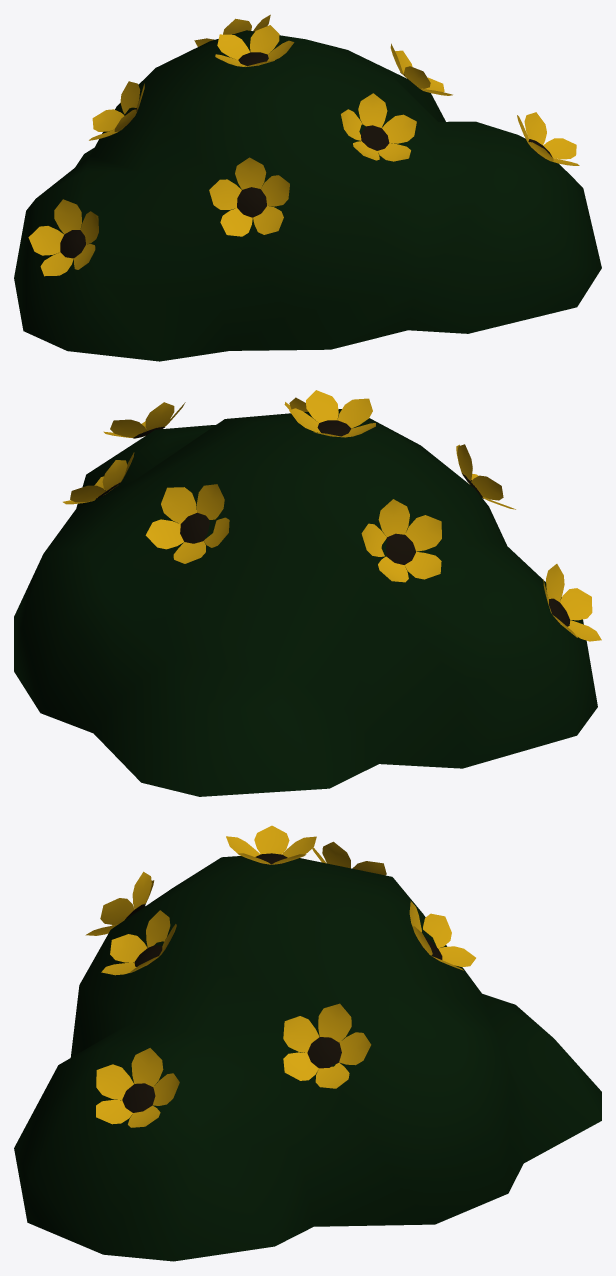
File: Prop_FlowerBush_01.FBX
3 renders of one model, top to bottom at view 1: azimuth 30°, elevation 25°; view 2: azimuth 150°, elevation 25°; view 3: azimuth 270°, elevation 25°, orthographic. The views are drawn at different scales.
Visible parts, largest first — view 1: Prop_FlowerBush_01; view 2: Prop_FlowerBush_01; view 3: Prop_FlowerBush_01.
Boxes of the visible parts, <box> form: Prop_FlowerBush_01: <box>14,14,601,361</box>; Prop_FlowerBush_01: <box>14,390,601,796</box>; Prop_FlowerBush_01: <box>14,825,601,1261</box>.
Bounding box in the file's own units: 56.5 × 25.26 × 50.25.
